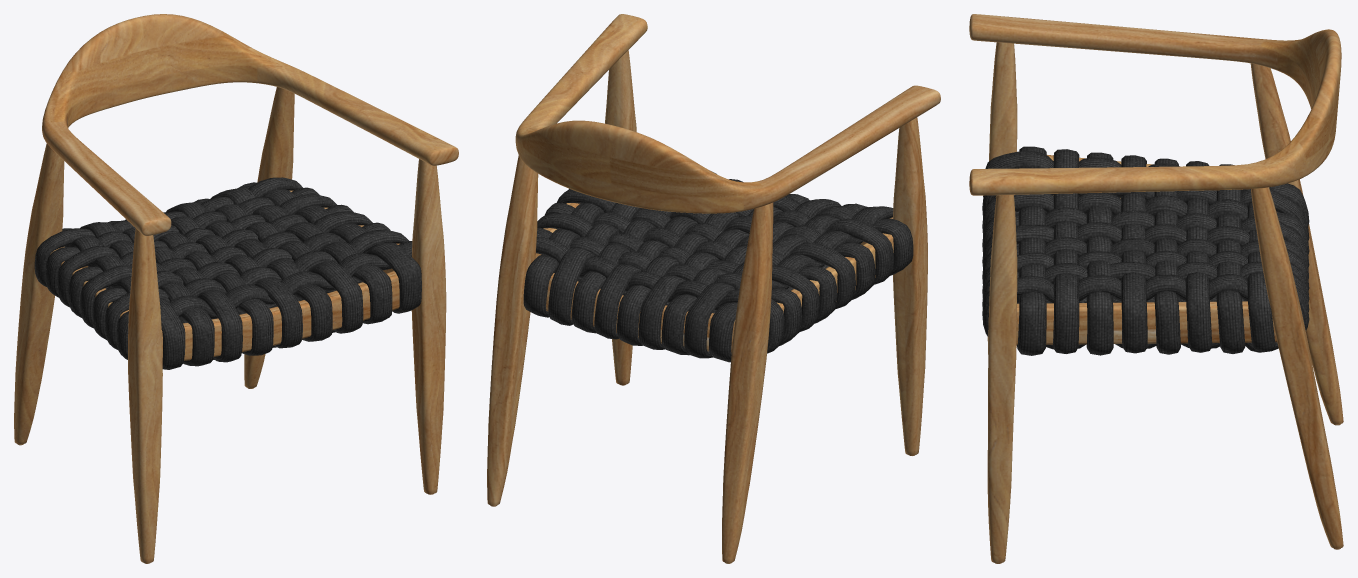
File: PM_Chair1.glb
The picture shows the model from 3 angles, left to right: view 1: azimuth 30°, elevation 25°; view 2: azimuth 150°, elevation 25°; view 3: azimuth 270°, elevation 25°; orthographic projection. The views are drawn at different scales.
Visible parts, largest first — view 1: Line025.001; view 2: Line025.001; view 3: Line025.001.
Boxes of the visible parts, x1,y1,x2,y2 form: Line025.001: (14,14,458,563); Line025.001: (487,14,940,563); Line025.001: (969,14,1343,563).
Size of the model in its own units: 0.5502 by 0.6611 by 0.5083.
1 material, 1 textured.
